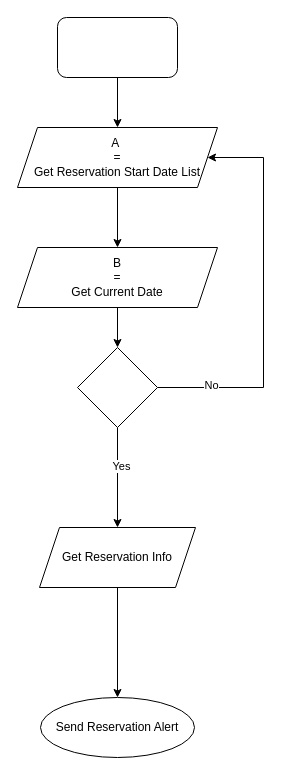
The diagram is 289 pixels wide and 775 high, and some of its shapes have lost their labels. Each missing label, with the box of its shape:
A-B <= 5: (76, 346, 158, 428)
Urgent Notification: (56, 16, 178, 78)
